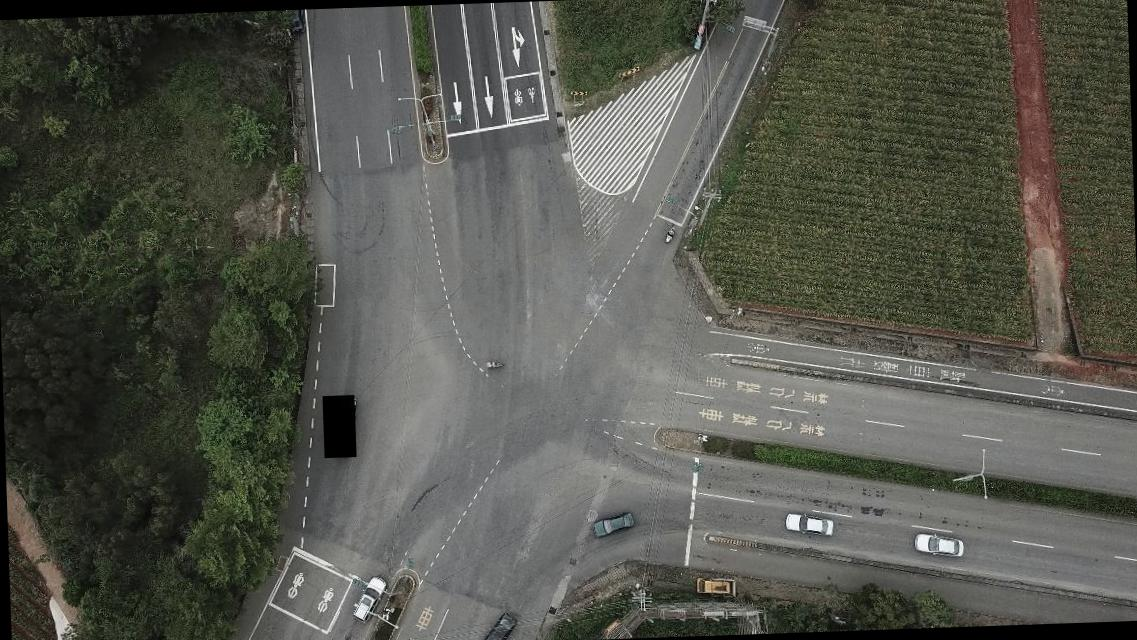vehicle: (350, 574, 386, 622), (910, 530, 964, 556), (590, 510, 634, 538), (786, 512, 833, 538), (475, 613, 518, 639), (693, 576, 733, 598), (284, 10, 304, 34)
